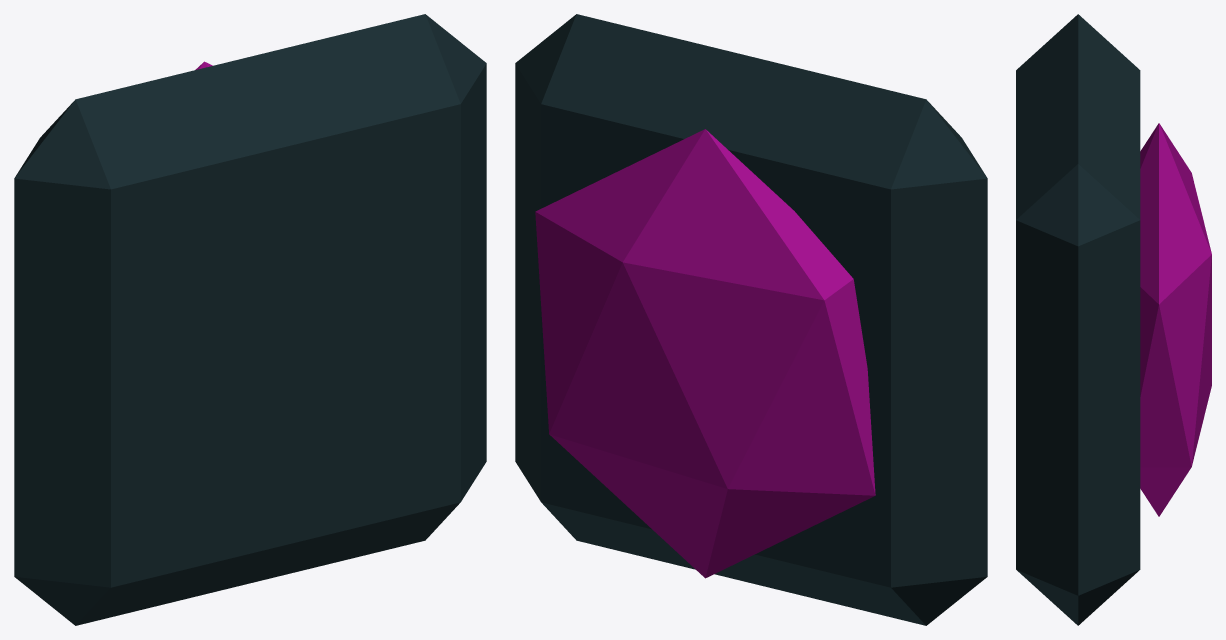
Rendered from PaintShooterEnemy_Tank.obj.
3 renders of one model, left to right at view 1: azimuth 30°, elevation 25°; view 2: azimuth 150°, elevation 25°; view 3: azimuth 270°, elevation 25°, orthographic. The views are drawn at different scales.
Parts seen in each view (by area): view 1: PaintShooterEnemy_Tank; view 2: PaintShooterEnemy_Tank; view 3: PaintShooterEnemy_Tank.
Boxes of the visible parts, box(x1,y1,x2,y2) form: PaintShooterEnemy_Tank: box(14, 14, 486, 625); PaintShooterEnemy_Tank: box(515, 14, 987, 625); PaintShooterEnemy_Tank: box(1016, 14, 1211, 625).
Size of the model in its own units: 0.6347 by 0.6759 by 0.2597.
2 materials, 2 textured.
